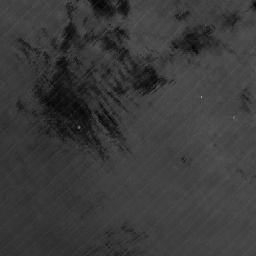Target: (75, 124, 82, 129)
